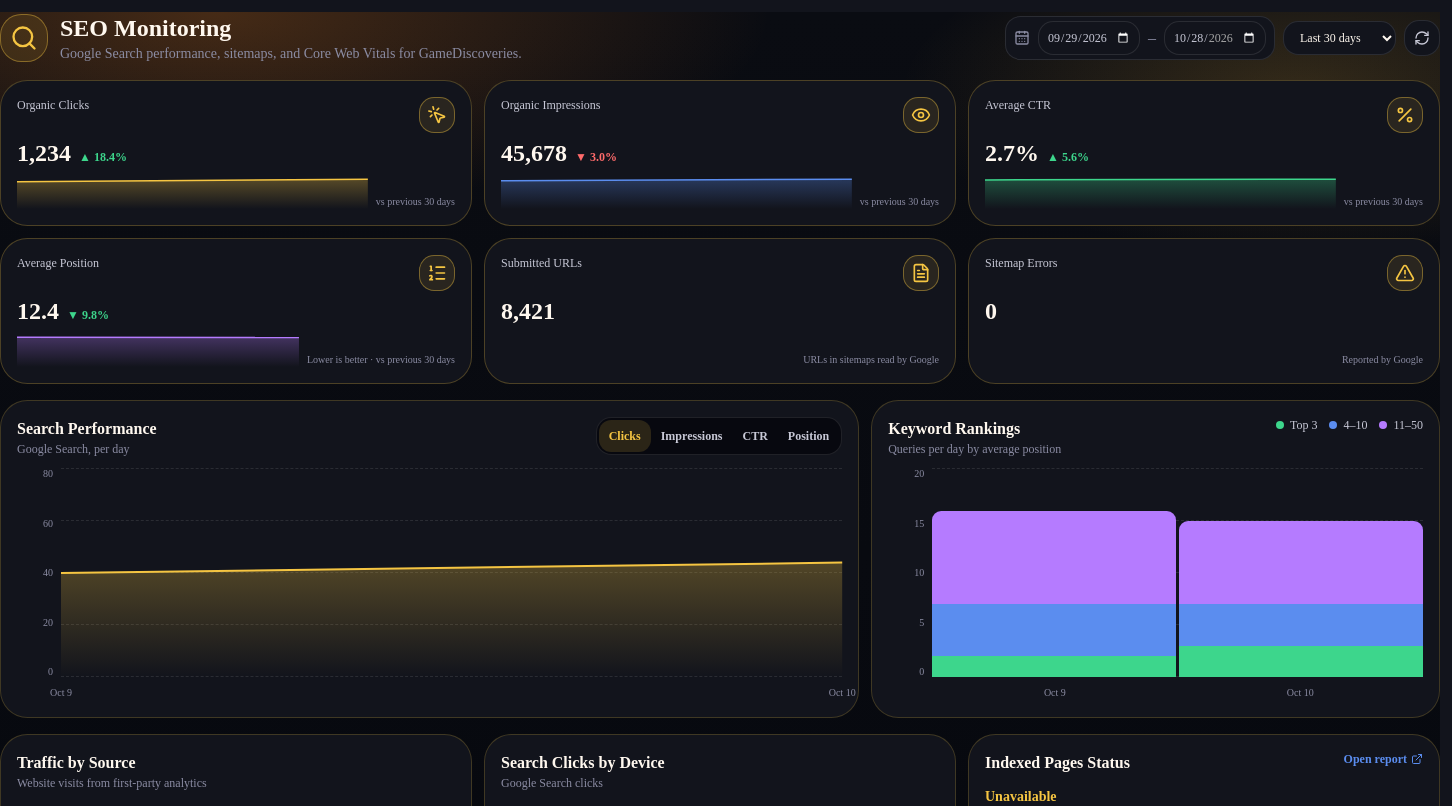
Scenario: MonitoringSeoView › switches the performance chart metric
Click the button "Position" at [808, 436], box [778,420,839,452]
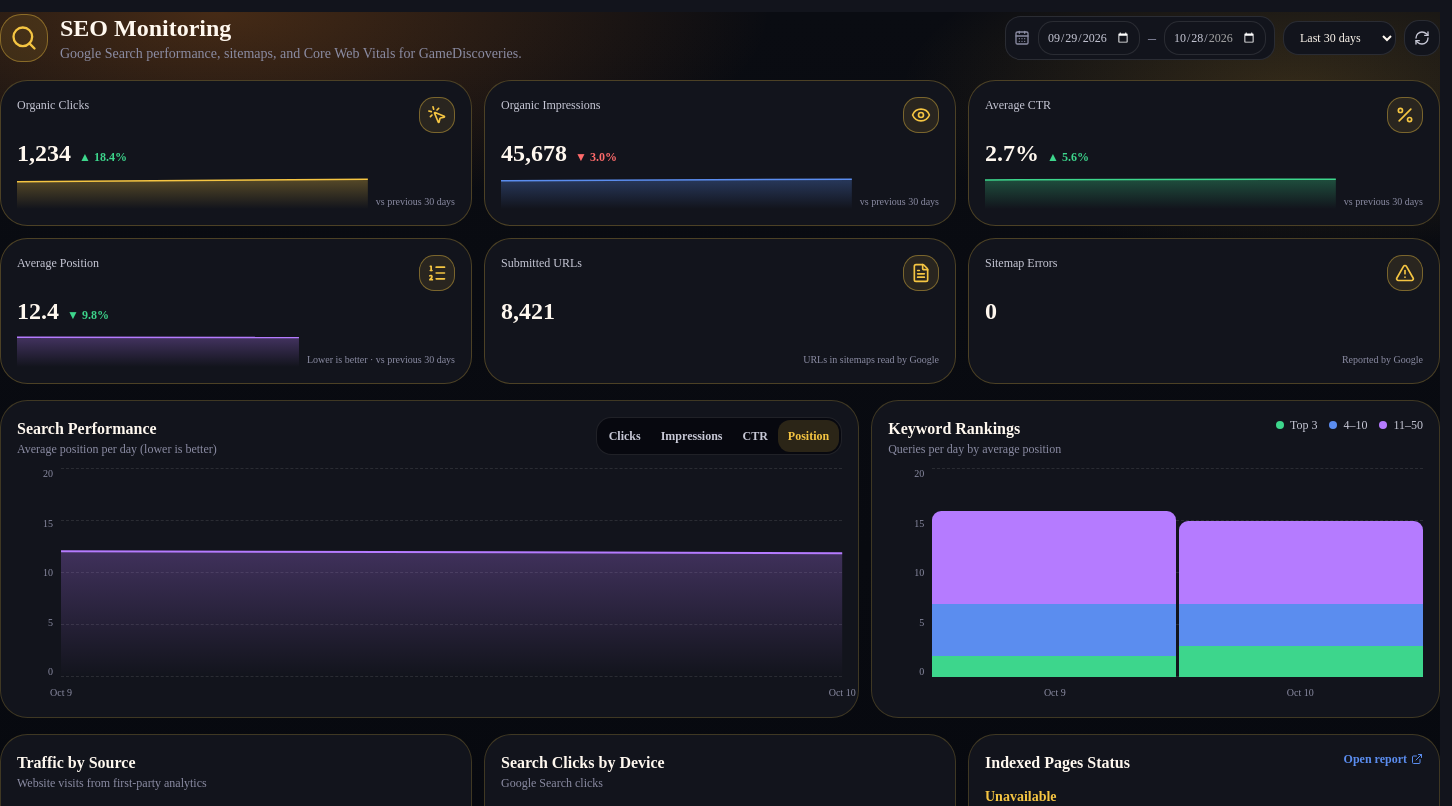
Result: the text "Average position per day (lower is better)" is shown at [17,441,217,457]
